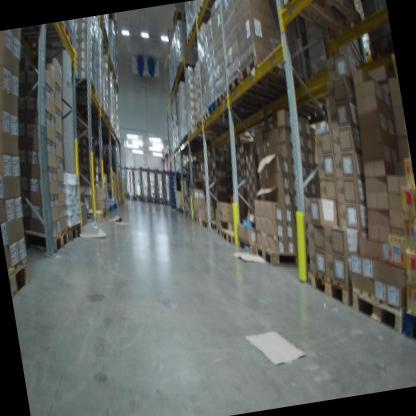pallet: (252, 232, 358, 315), (282, 0, 371, 55), (347, 278, 416, 342), (237, 47, 294, 96), (18, 217, 74, 262), (226, 65, 288, 105), (215, 82, 262, 124), (206, 94, 251, 125), (6, 253, 34, 301), (200, 103, 232, 132), (66, 66, 96, 96), (402, 306, 416, 359), (227, 123, 255, 149), (235, 232, 257, 258), (194, 114, 218, 135), (83, 201, 104, 225), (65, 219, 85, 244), (199, 215, 223, 232), (221, 227, 237, 248), (214, 225, 224, 238)
